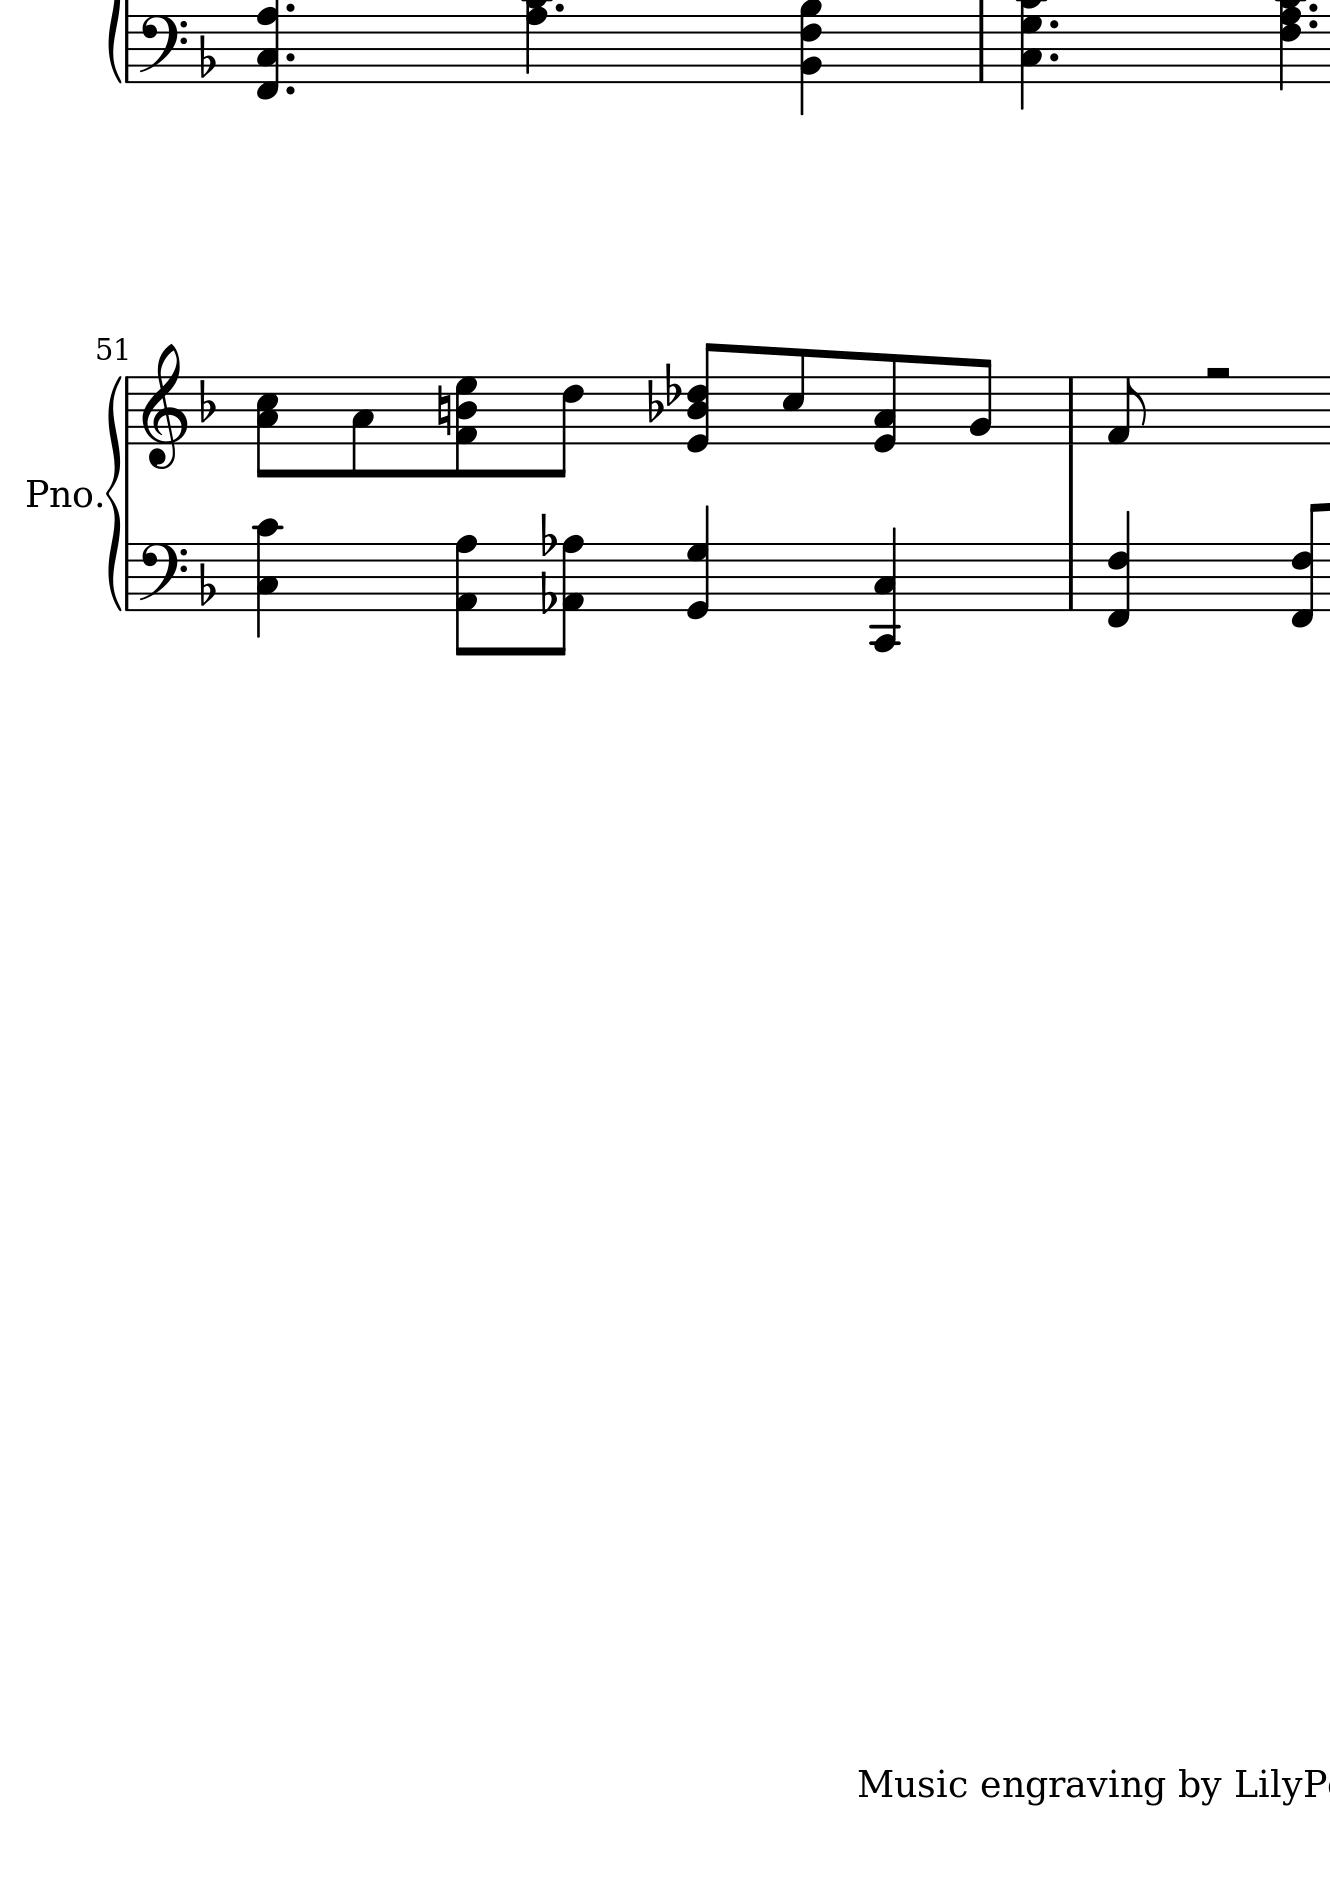1: (114, 335, 130, 363)
4_-1_6: (1105, 509, 1133, 629)
4_-2_3: (867, 527, 904, 653)
4_1_7: (685, 505, 712, 620)
4_3_10: (250, 517, 284, 638)
4_th: (795, 1, 823, 115)
5: (95, 335, 112, 363)
8_-1_6: (1293, 502, 1329, 629)
8_1: (1105, 376, 1147, 445)
8_1_3: (874, 350, 898, 453)
8_1_8: (556, 534, 586, 658), (453, 535, 476, 659)
8_2: (967, 355, 992, 448)
8_3: (348, 373, 374, 479)
8_3_5: (255, 374, 279, 479)
8_5: (780, 345, 806, 446)
8_6: (547, 373, 584, 481)
8_th: (685, 343, 727, 458), (452, 376, 479, 478)
Brace: (104, 371, 122, 612)
Fclef: (135, 13, 187, 86), (135, 543, 187, 615)
Flat: (196, 558, 217, 607), (196, 379, 217, 425), (196, 33, 216, 81), (538, 511, 557, 558), (538, 570, 556, 617)
Gclef: (140, 343, 187, 471)
Natural: (435, 383, 451, 438)
Pno: (23, 476, 92, 515)
Rests2: (1200, 363, 1234, 383)
Single_barline: (1058, 376, 1082, 445), (1059, 543, 1080, 612), (972, 14, 990, 82), (121, 14, 135, 83), (119, 377, 134, 445), (121, 544, 135, 610)
dot: (1046, 16, 1061, 32), (284, 83, 297, 99), (551, 1, 566, 14), (284, 1, 297, 14), (1306, 17, 1318, 30), (284, 50, 297, 63), (1046, 50, 1059, 63), (1306, 1, 1318, 13)
